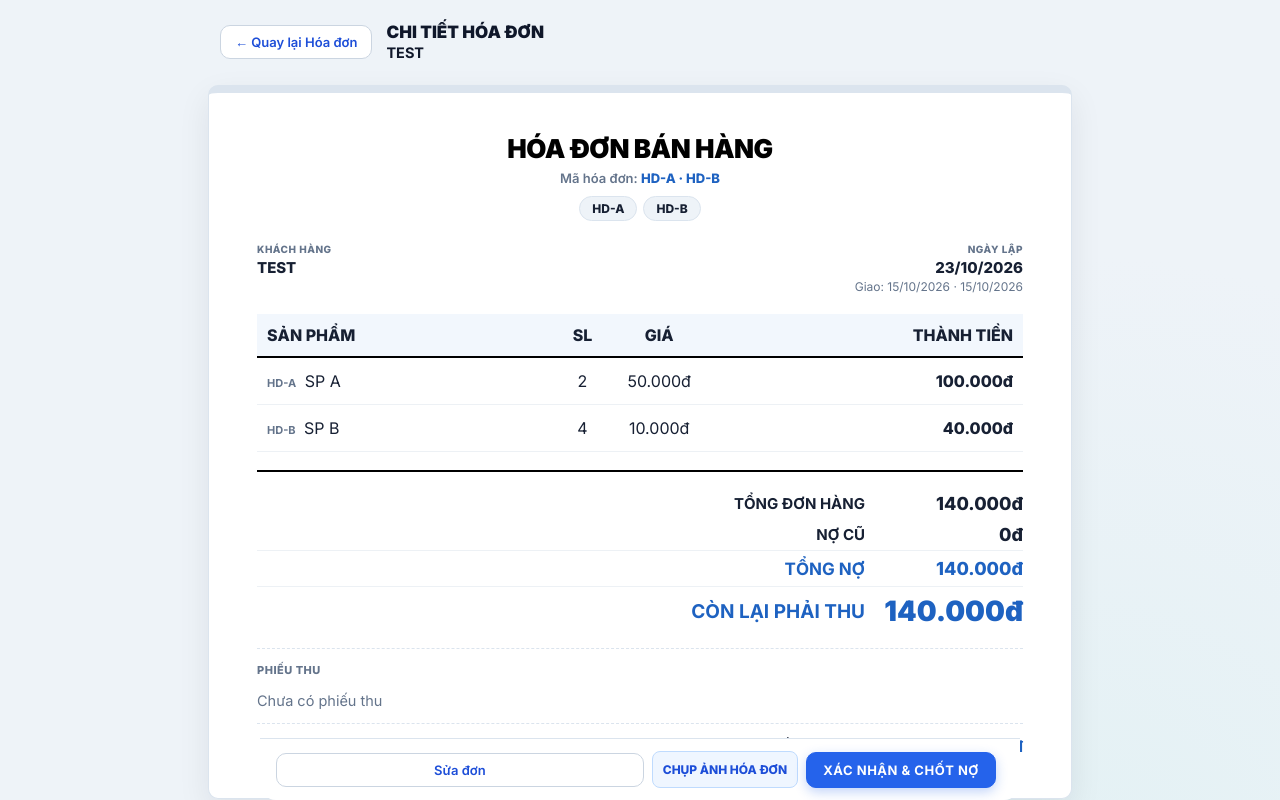
Test: invoice split flow › invalidates capture and disables finalize after editing
Check: the button with class "btn-main" is enabled, box left=806, top=752, right=996, bottom=788
Click the button with class "btn-outline" showing "Sửa đơn" at (460, 770), box left=276, top=752, right=644, bottom=786
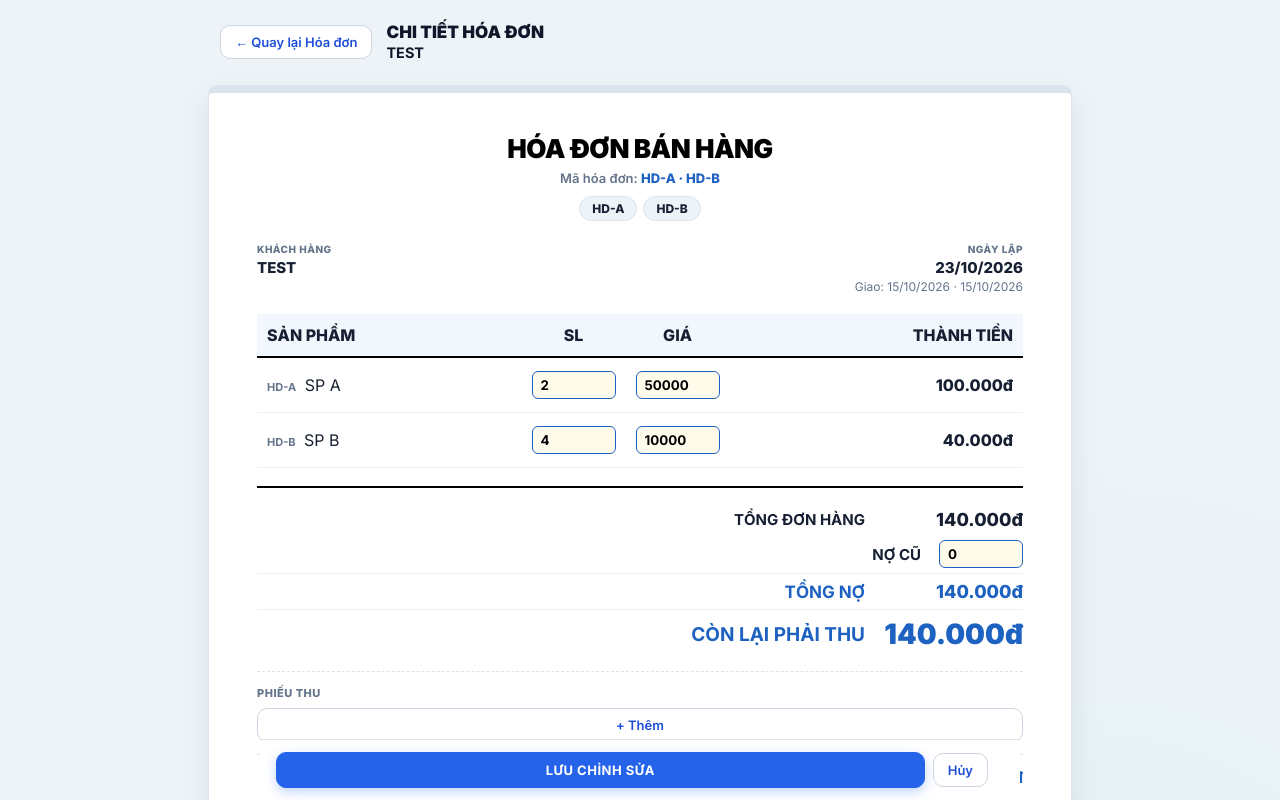
Replace the text in the 1st number field with "3" at (574, 385), box left=532, top=371, right=616, bottom=399
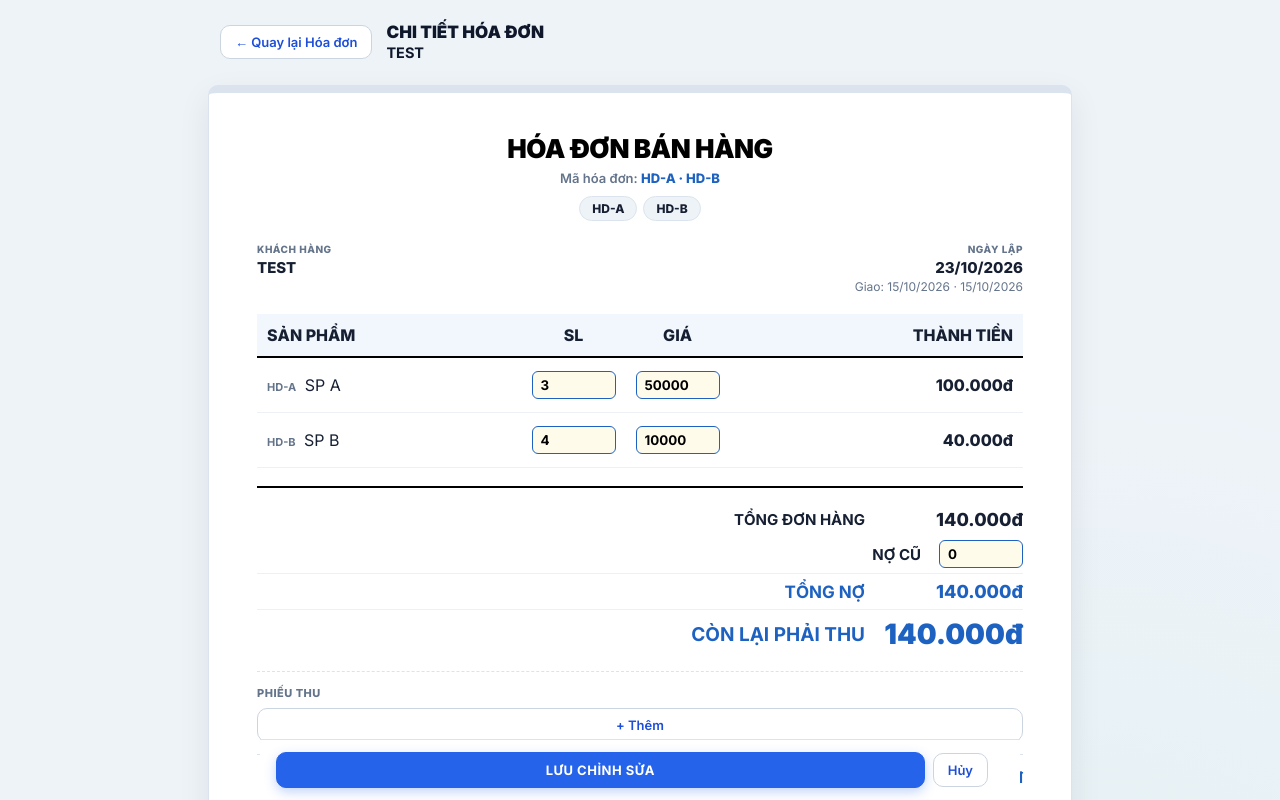
Click the button with class "btn-outline" at (600, 770), box left=276, top=752, right=925, bottom=788
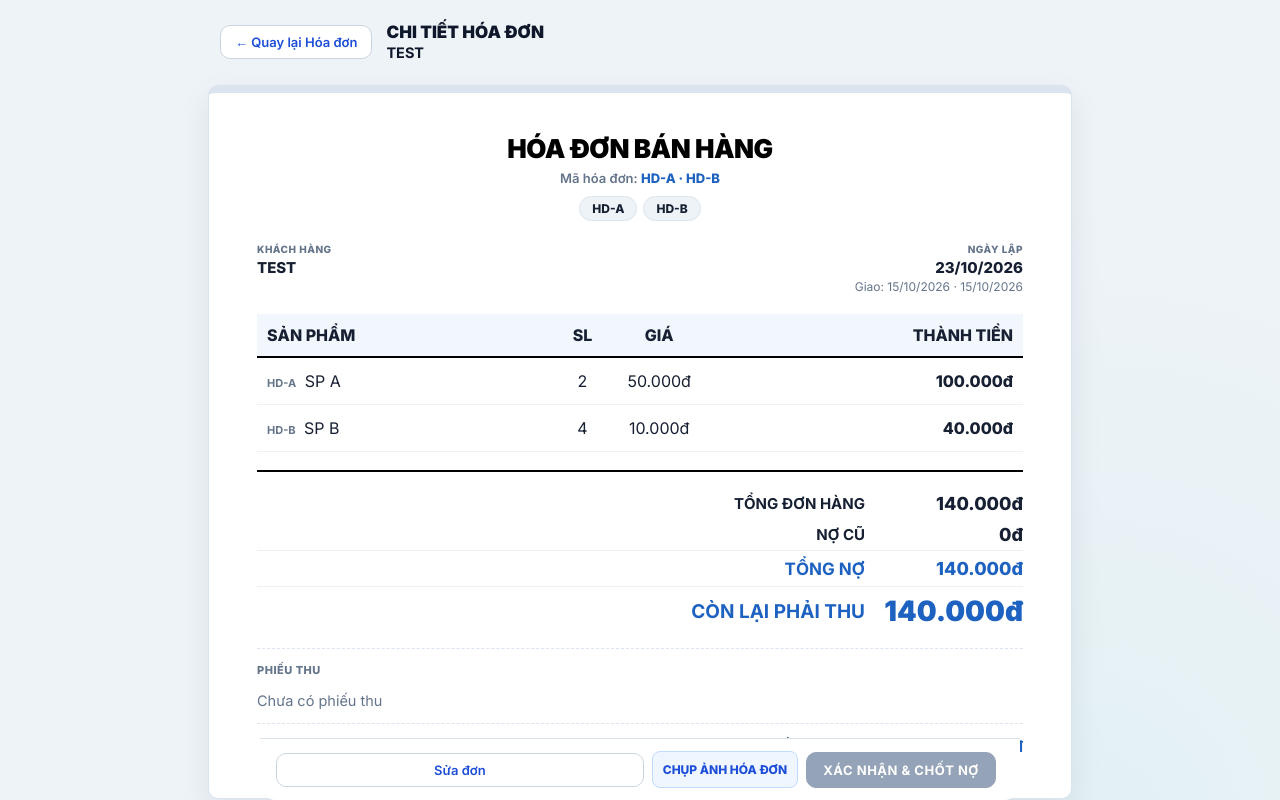
Check: the button with class "btn-main" is disabled, box left=806, top=752, right=996, bottom=788
